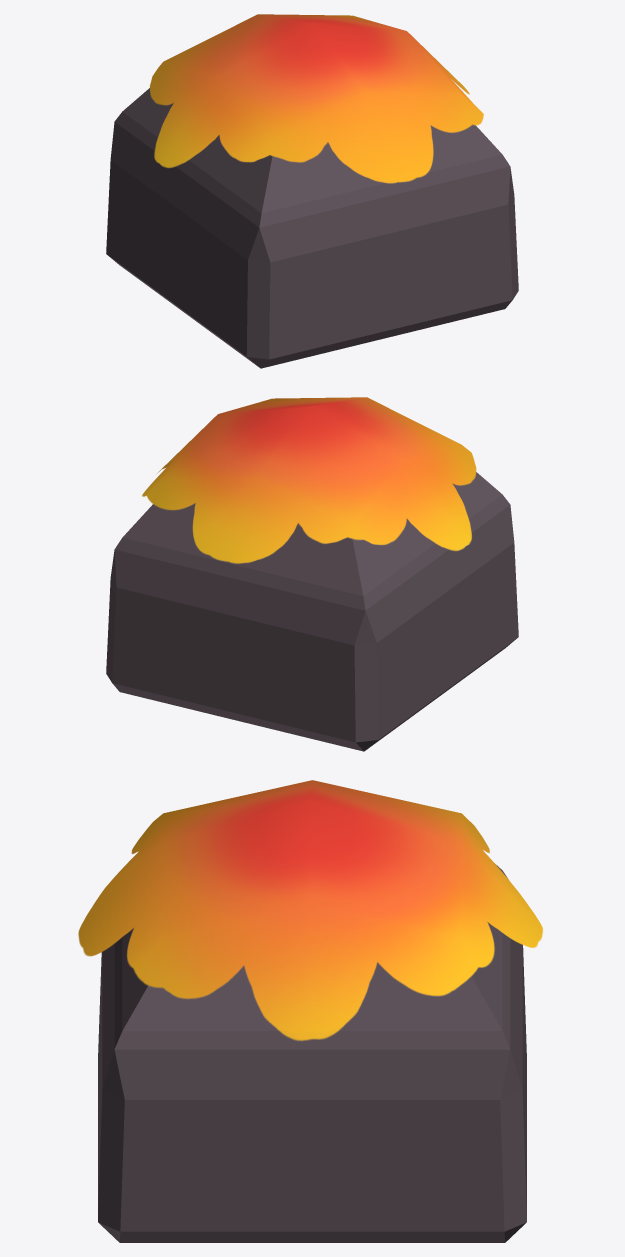
The model's file is StoneRadiant1.glb.
3 renders of one model, top to bottom at view 1: azimuth 30°, elevation 25°; view 2: azimuth 150°, elevation 25°; view 3: azimuth 270°, elevation 25°, orthographic. The views are drawn at different scales.
Visible parts, largest first — view 1: Cube.019; view 2: Cube.019; view 3: Cube.019.
Boxes of the visible parts, x1,y1,x2,y2 form: Cube.019: (106, 14, 518, 368); Cube.019: (106, 397, 518, 751); Cube.019: (78, 780, 543, 1242).
Size of the model in its own units: 2 by 1.33 by 2.
Materials: 2 (1 with a texture image).
